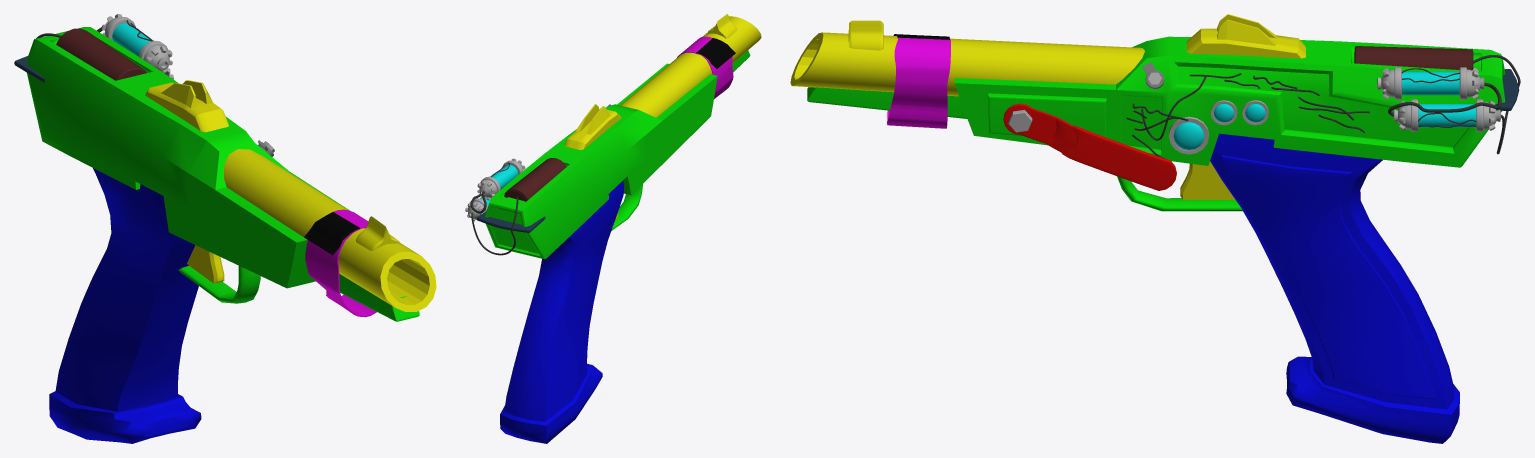
File: Gun.fbx
The picture shows the model from 3 angles, left to right: view 1: azimuth 30°, elevation 25°; view 2: azimuth 150°, elevation 25°; view 3: azimuth 270°, elevation 25°; orthographic projection. The views are drawn at different scales.
Visible parts, largest first — view 1: Gun; view 2: Gun; view 3: Gun.
Part boxes in pixels (x1,y1,x2,y2): Gun: [14, 14, 436, 443]; Gun: [465, 14, 761, 443]; Gun: [790, 14, 1520, 443].
Bounding box in the file's own units: 6.25 × 22.25 × 35.57.
